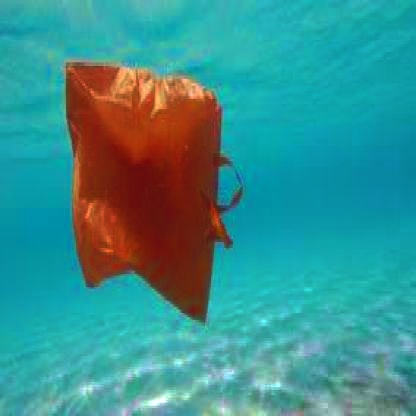pbag: (64, 60, 244, 328)
